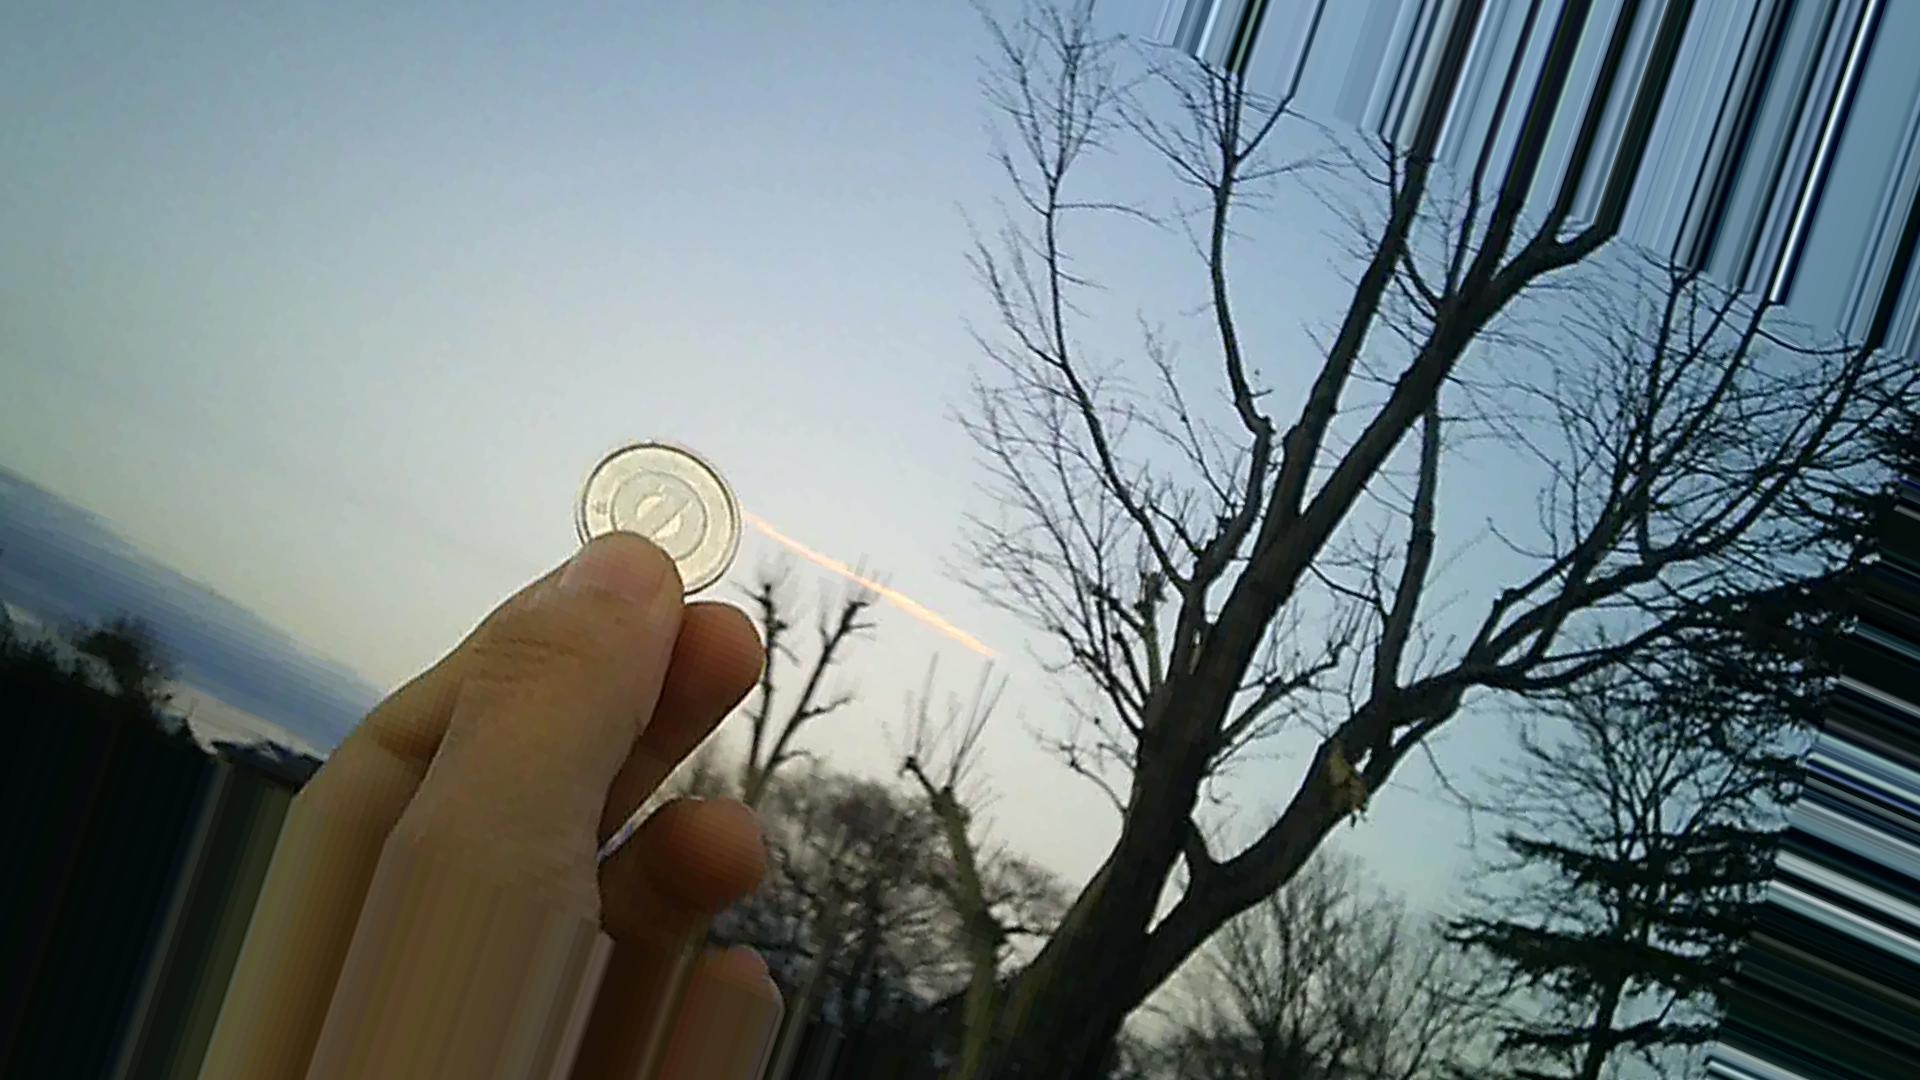1 Yen: (564, 429, 749, 585)
